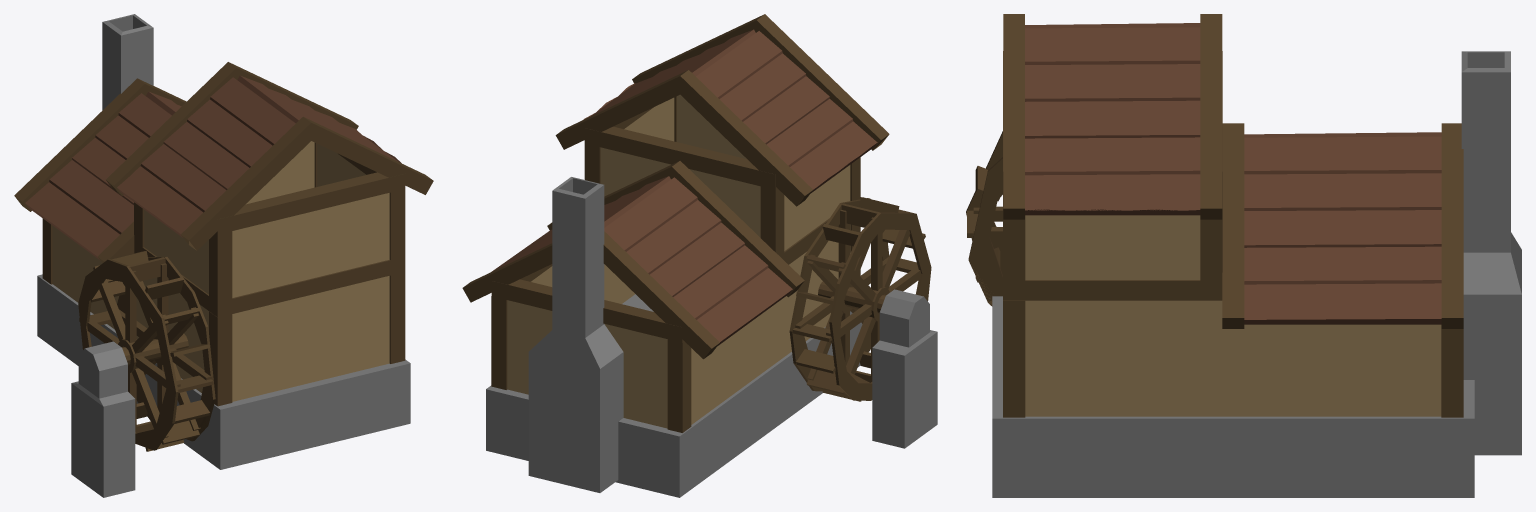
Rendered from Water Mill Far.fbx.
3 renders of one model, left to right at view 1: azimuth 30°, elevation 25°; view 2: azimuth 150°, elevation 25°; view 3: azimuth 270°, elevation 25°, orthographic. The views are drawn at different scales.
Visible parts, largest first — view 1: Cylinder.004; view 2: Cylinder.004; view 3: Cylinder.004.
Part boxes in pixels (left/top/right/bottom): Cylinder.004: left=14, top=14, right=433, bottom=497; Cylinder.004: left=462, top=14, right=937, bottom=497; Cylinder.004: left=966, top=14, right=1521, bottom=497.
Bounding box in the file's own units: 1079 × 1137 × 1268.
